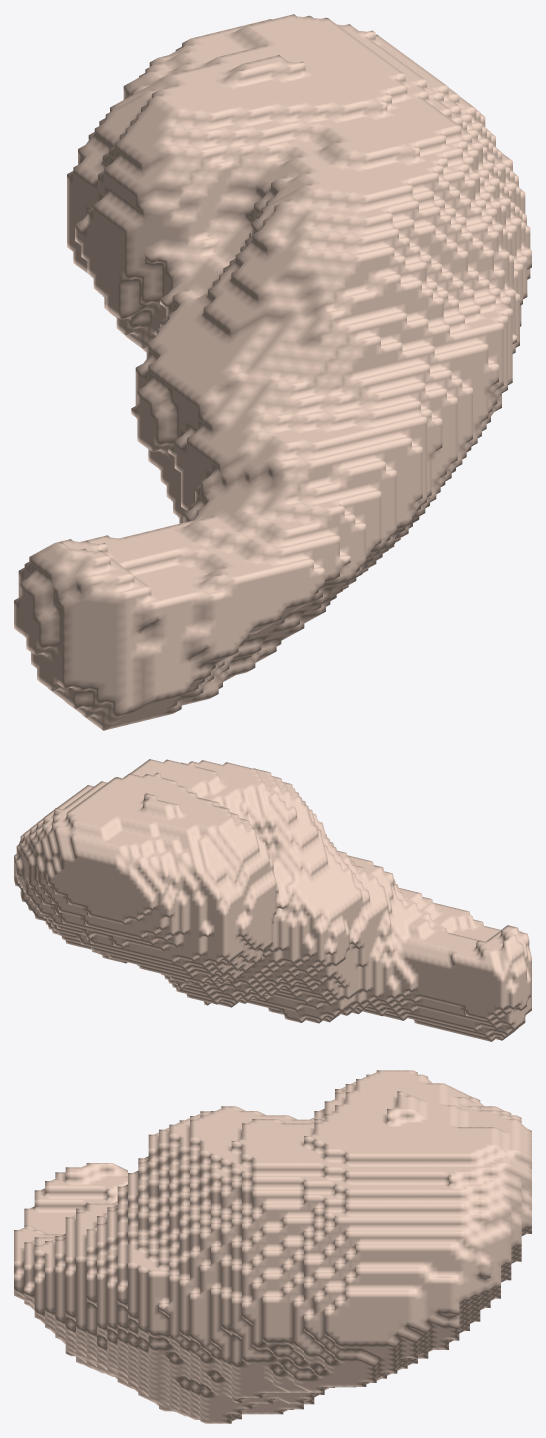
Rendered from region-15.glb.
3 renders of one model, top to bottom at view 1: azimuth 30°, elevation 25°; view 2: azimuth 150°, elevation 25°; view 3: azimuth 270°, elevation 25°, orthographic. The views are drawn at different scales.
Parts seen in each view (by area): view 1: digimouse-volume:15; view 2: digimouse-volume:15; view 3: digimouse-volume:15.
Boxes of the visible parts, box(x1,y1,x2,y2) form: digimouse-volume:15: box(14, 14, 531, 730); digimouse-volume:15: box(14, 759, 531, 1041); digimouse-volume:15: box(14, 1070, 531, 1423).
Bounding box in the file's own units: 0.0116 × 0.0076 × 0.01.
